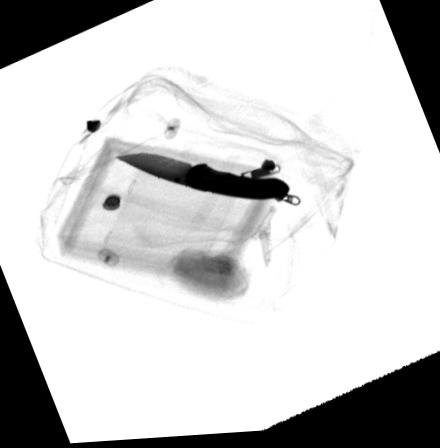Knife: (113, 153, 291, 205)
